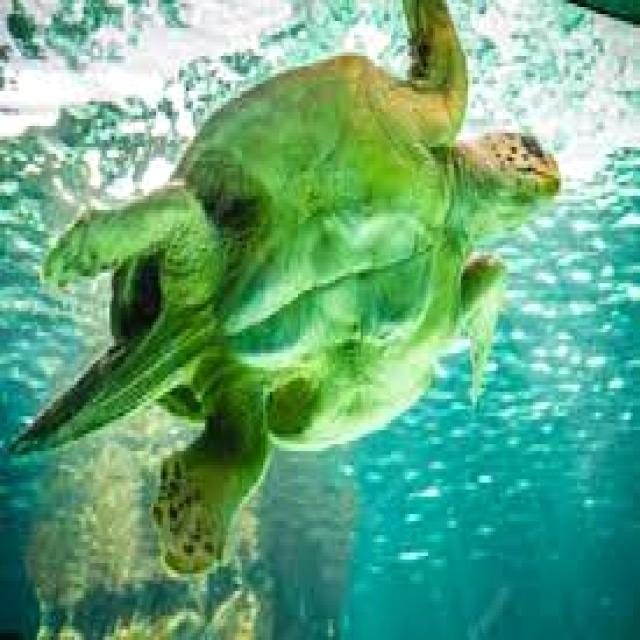Sea turtle: (4, 6, 564, 578)
